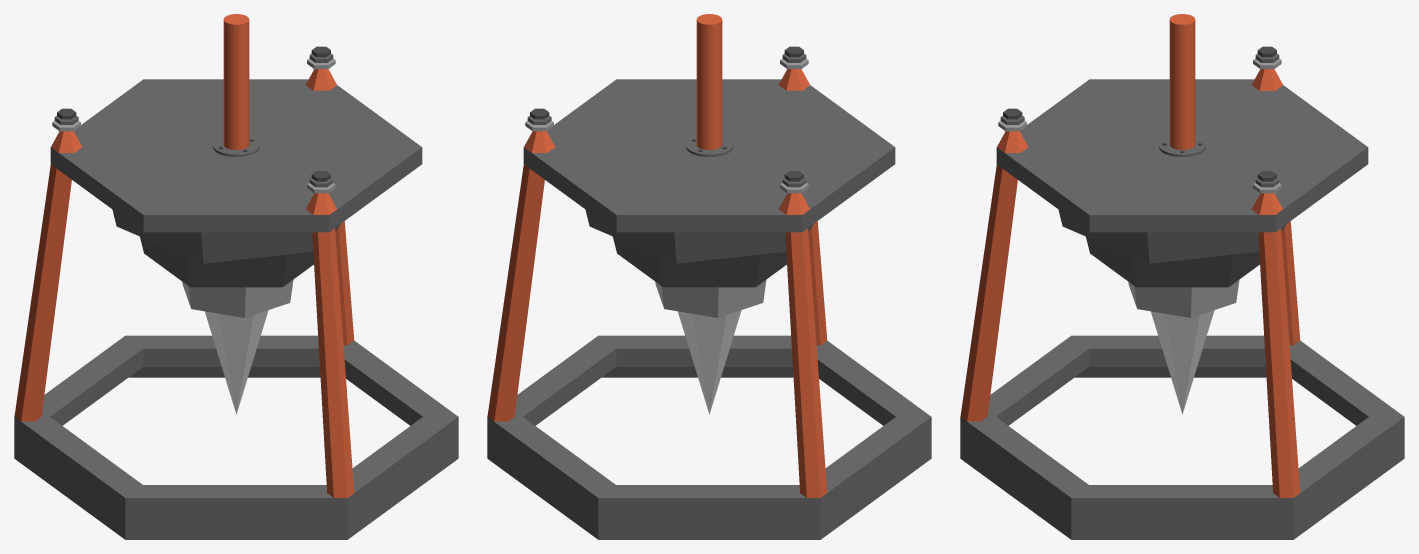
The model's file is Drill.fbx.
The picture shows the model from 3 angles, left to right: view 1: azimuth 30°, elevation 25°; view 2: azimuth 150°, elevation 25°; view 3: azimuth 270°, elevation 25°; orthographic projection.
Parts seen in each view (by area): view 1: Cylinder.004, Cylinder, Cylinder.013, Cylinder.002, Cylinder.001, Cylinder.005, Cone, Cylinder.003, Cone.002, Cylinder.018, Cylinder.016; view 2: Cylinder.004, Cylinder, Cylinder.013, Cylinder.002, Cylinder.001, Cylinder.005, Cone, Cylinder.003, Cone.002, Cylinder.018, Cylinder.016; view 3: Cylinder.004, Cylinder, Cylinder.013, Cylinder.002, Cylinder.001, Cylinder.005, Cone, Cylinder.003, Cone.002, Cylinder.018, Cylinder.016.
Boxes of the visible parts, <box> form: Cylinder.004: <box>50,79,422,232</box>; Cylinder: <box>14,335,458,539</box>; Cylinder.013: <box>14,164,354,497</box>; Cylinder.002: <box>140,236,313,287</box>; Cylinder.001: <box>112,209,340,263</box>; Cylinder.005: <box>223,14,249,149</box>; Cone: <box>205,310,268,414</box>; Cylinder.003: <box>182,279,293,317</box>; Cone.002: <box>51,69,336,214</box>; Cylinder.018: <box>52,58,335,193</box>; Cylinder.016: <box>57,46,330,181</box>; Cylinder.004: <box>523,79,895,232</box>; Cylinder: <box>487,335,931,539</box>; Cylinder.013: <box>487,164,827,497</box>; Cylinder.002: <box>613,236,786,287</box>; Cylinder.001: <box>585,209,813,263</box>; Cylinder.005: <box>696,14,722,149</box>; Cone: <box>678,310,741,414</box>; Cylinder.003: <box>655,279,766,317</box>; Cone.002: <box>524,69,809,214</box>; Cylinder.018: <box>525,58,808,193</box>; Cylinder.016: <box>530,46,803,181</box>; Cylinder.004: <box>996,79,1368,232</box>; Cylinder: <box>960,335,1404,539</box>; Cylinder.013: <box>960,164,1300,497</box>; Cylinder.002: <box>1086,236,1259,287</box>; Cylinder.001: <box>1058,209,1286,263</box>; Cylinder.005: <box>1169,14,1195,149</box>; Cone: <box>1151,310,1214,414</box>; Cylinder.003: <box>1128,279,1239,317</box>; Cone.002: <box>997,69,1282,214</box>; Cylinder.018: <box>998,58,1281,193</box>; Cylinder.016: <box>1003,46,1276,181</box>.
Size of the model in its own units: 173 by 218 by 200.
